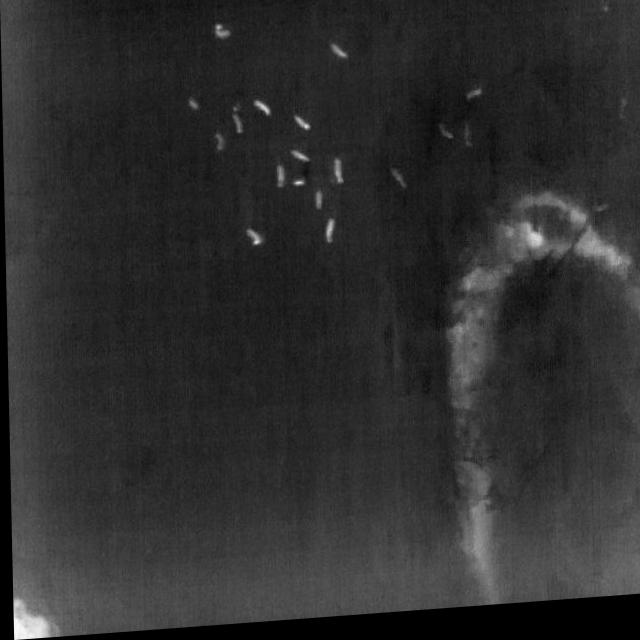deer: (244, 230, 264, 251), (389, 173, 407, 196), (231, 107, 244, 138), (252, 102, 272, 122), (329, 47, 349, 67), (213, 26, 232, 45), (292, 118, 311, 136), (332, 162, 344, 190), (289, 153, 309, 169), (324, 222, 335, 248), (275, 168, 286, 193), (437, 129, 453, 146), (462, 131, 472, 156), (465, 95, 482, 109), (213, 136, 225, 154), (313, 195, 323, 215), (187, 100, 199, 113), (291, 182, 305, 191)
